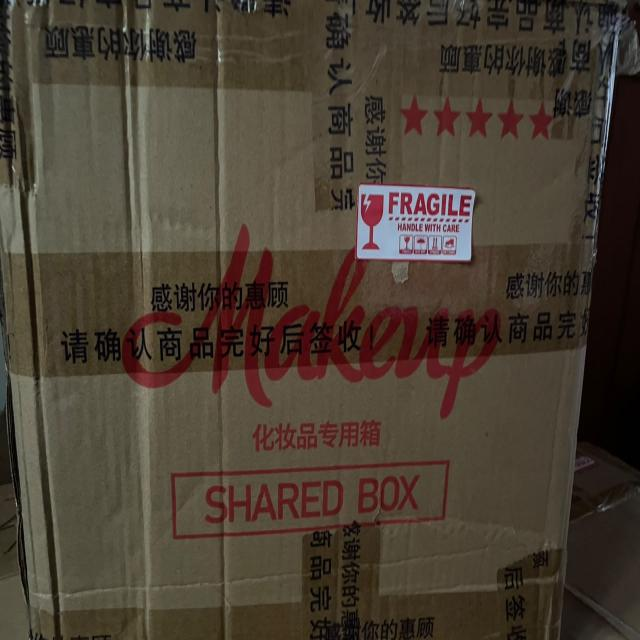carton_box: (1, 3, 626, 640)
fragile_label: (384, 183, 480, 227), (354, 183, 386, 258), (396, 227, 414, 257)
keep_dry_label: (416, 232, 430, 258)
this_side_up_label: (430, 230, 442, 252)
